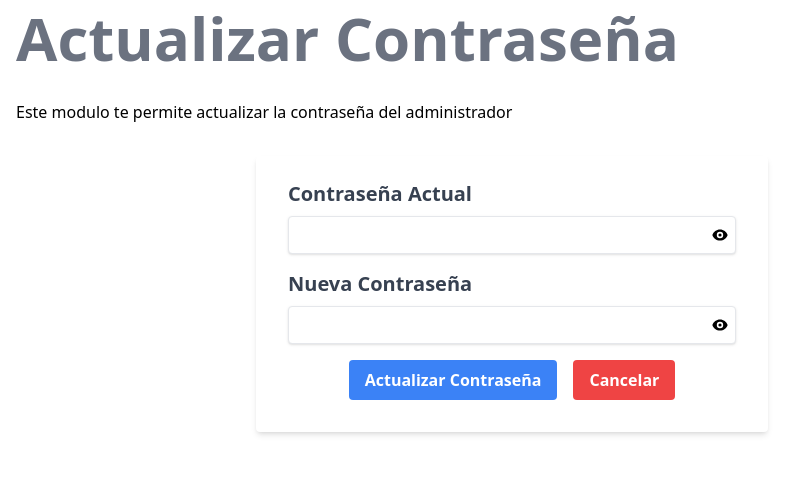
Scenario: ActualizarContrasena › Mostrar errores cuando faltan campos requeridos
The width and height of the screenshot is (786, 493).
What coordinates should you click on to do the following:
click the button "Actualizar Contraseña"
I would click on:
 (453, 380)
Its box is [349, 360, 558, 400].
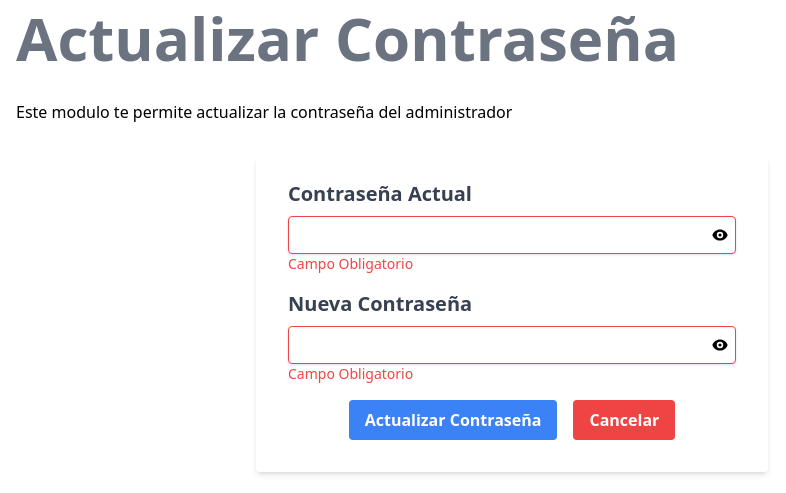
Expected: the text "Campo Obligatorio" below "Contraseña Actual" is shown, [288, 254, 413, 273]
